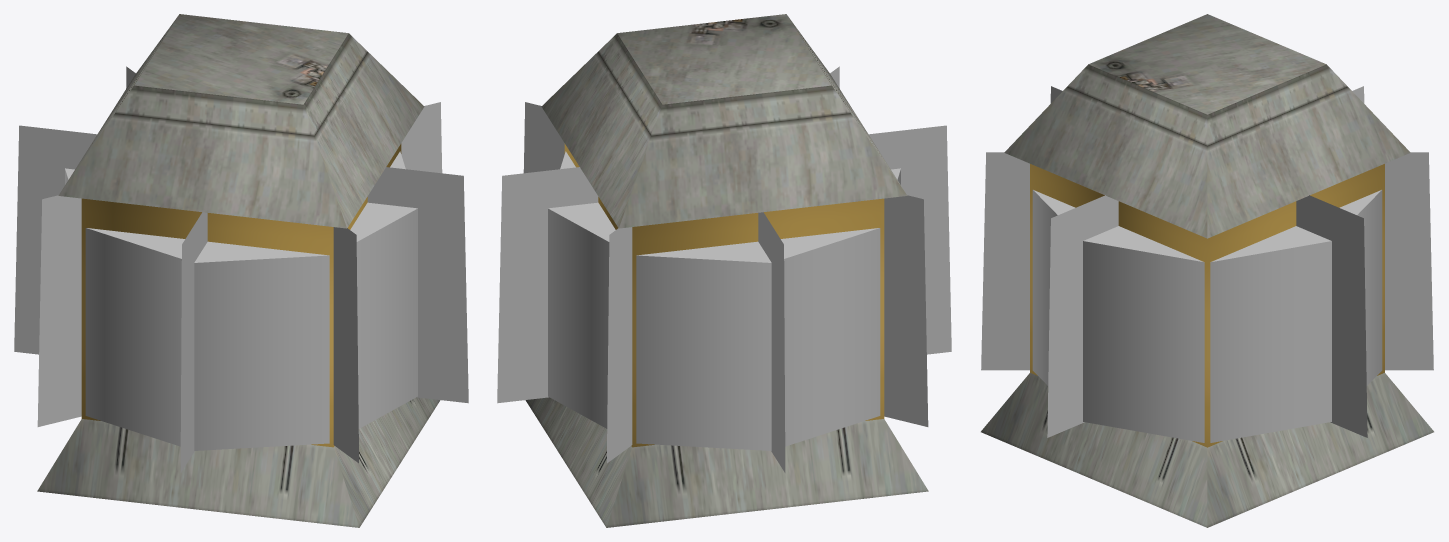
File: frn_all_glow_lantern_l2.fbx
3 views of the same model, side by side, from view 1: azimuth 30°, elevation 25°; view 2: azimuth 150°, elevation 25°; view 3: azimuth 270°, elevation 25° (orthographic). The views are drawn at different scales.
Visible parts, largest first — view 1: mesh_node; view 2: mesh_node; view 3: mesh_node.
Boxes of the visible parts, x1,y1,x2,y2 form: mesh_node: [14, 14, 468, 527]; mesh_node: [497, 14, 951, 527]; mesh_node: [981, 14, 1433, 527].
Size of the model in its own units: 0.272 by 0.243 by 0.272.
